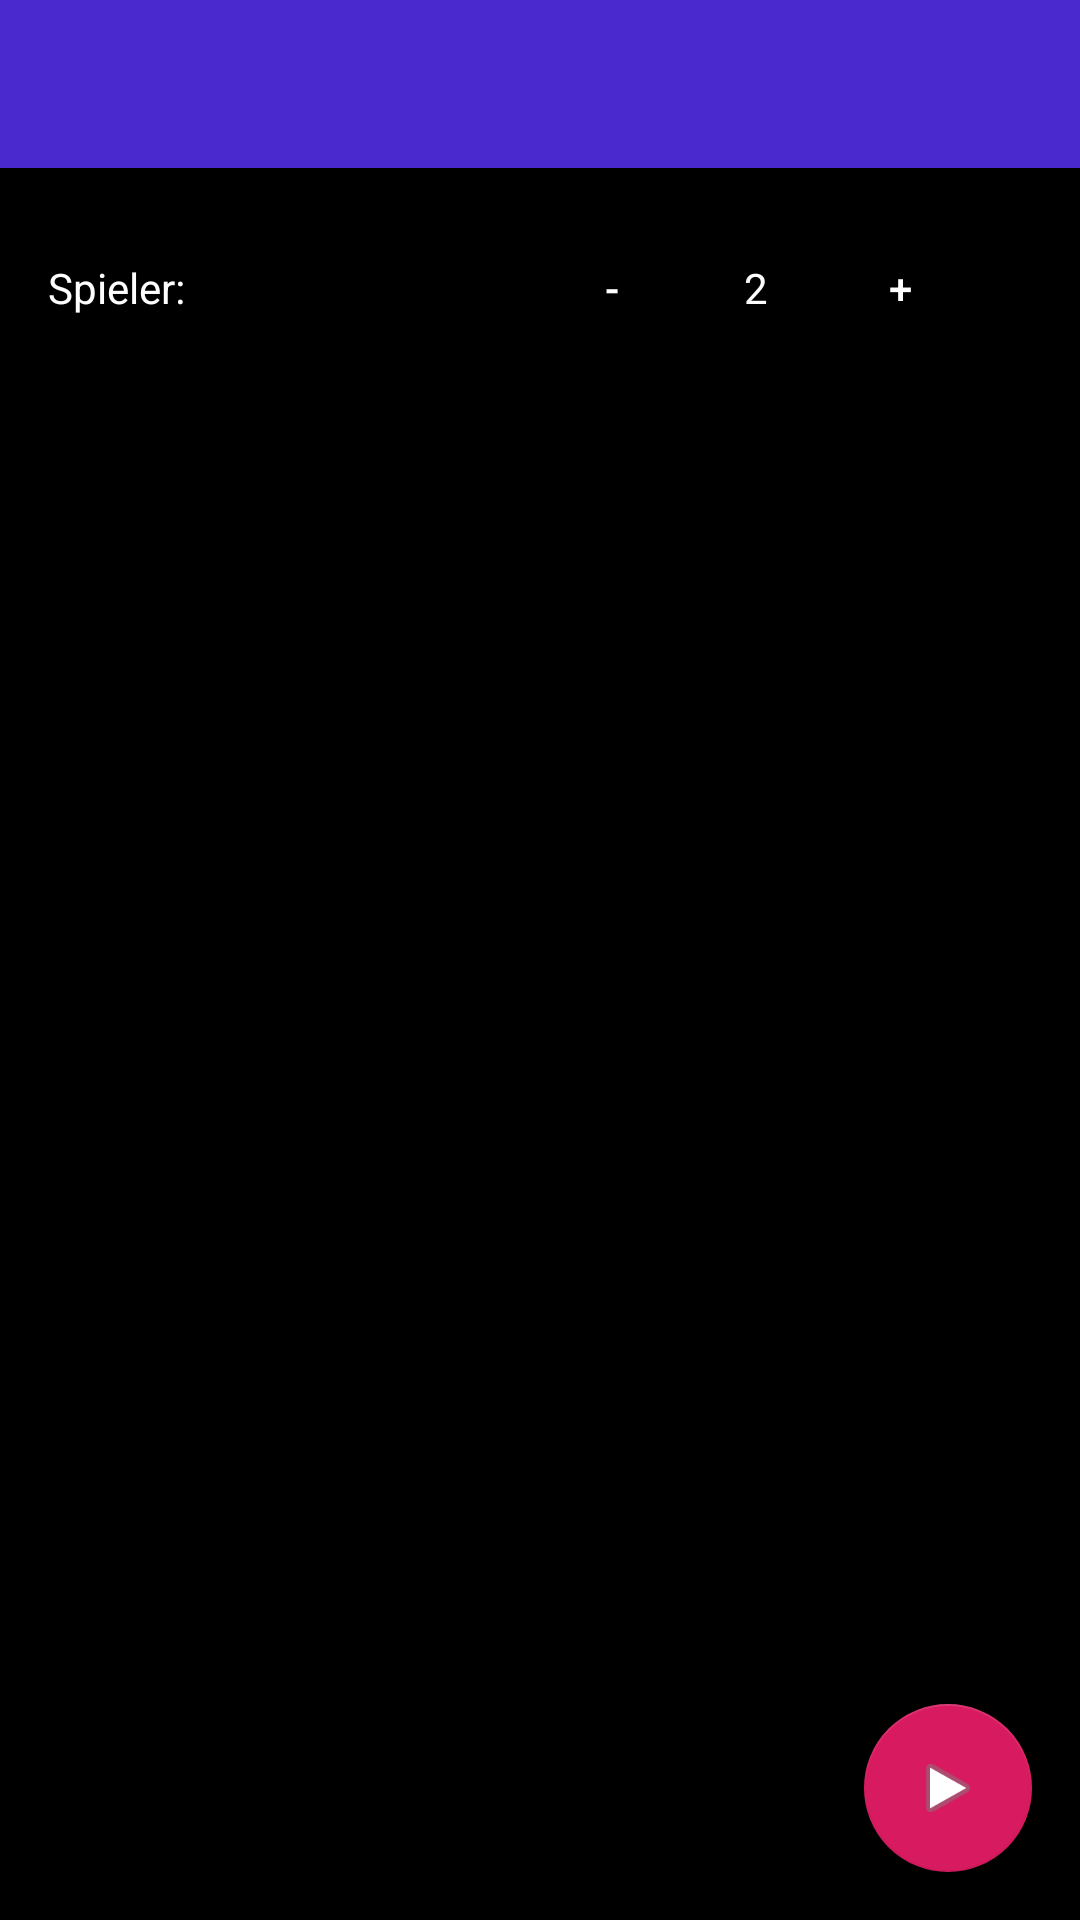

Screen size 1080 x 1920. Icon name, then its center in pixels as [x,y]:
play: [948,1788]
